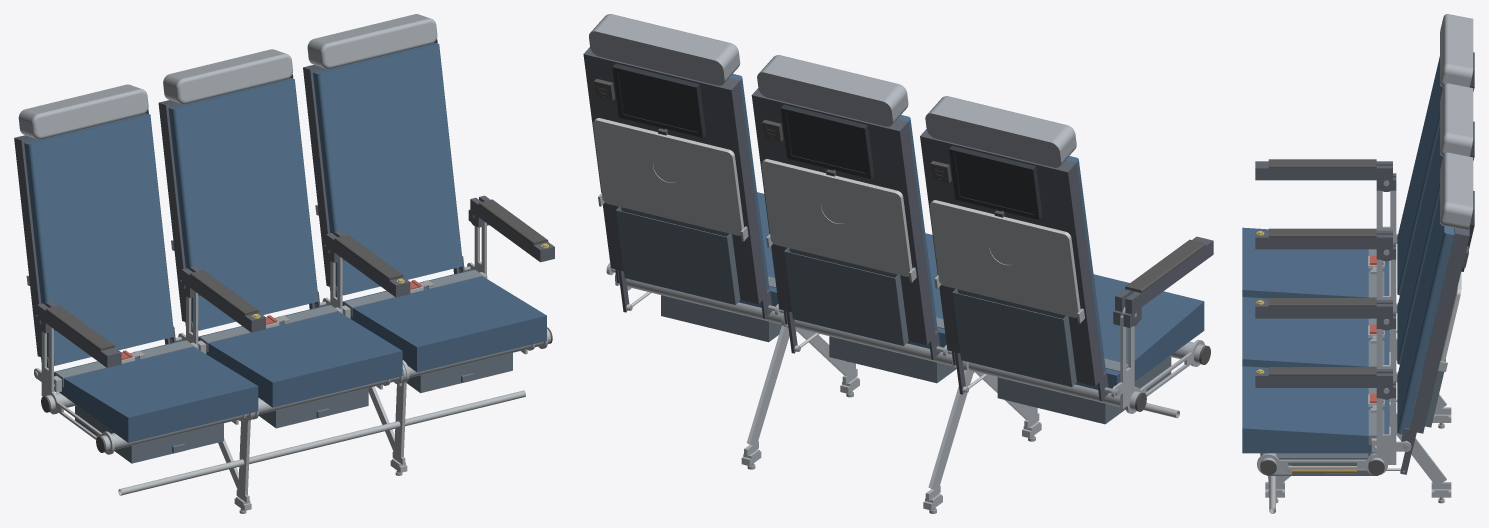
The model's file is esp2026_seat_set.glb.
The picture shows the model from 3 angles, left to right: view 1: azimuth 30°, elevation 25°; view 2: azimuth 150°, elevation 25°; view 3: azimuth 270°, elevation 25°; orthographic projection. The views are drawn at different scales.
Visible parts, largest first — view 1: seat 3 back cushion cover, seat 2 back cushion cover, seat 1 back cushion cover, seat 1 cushion cover, seat 2 cushion cover, seat 3 cushion cover, seat 2 head rest, seat 1 head rest, seat 3 head rest, baggage bar, seat 1 life vest pouch, seat 3 back shell (+19 smaller); view 2: seat 2 tray table, seat 1 tray table, seat 3 tray table, seat 1 back shell, seat 2 back shell, seat 3 back shell, seat 3 literature pocket, seat 1 literature pocket, seat 2 literature pocket, seat 2 head rest, seat 1 head rest, seat 3 head rest (+18 smaller); view 3: seat 3 cushion cover, seat 1 cushion cover, seat 2 cushion cover, seat 3 back cushion cover, seat 3 back shell, seat 1 back cushion cover, seat 2 back cushion cover, seat 3 head rest, seat 2 head rest, seat 1 head rest, spreader 4, armrest 1 (+19 smaller).
Boxes of the visible parts, <box> form: seat 3 back cushion cover: <box>313,42,462,295</box>; seat 2 back cushion cover: <box>168,78,318,330</box>; seat 1 back cushion cover: <box>24,113,174,365</box>; seat 1 cushion cover: <box>54,340,258,442</box>; seat 2 cushion cover: <box>198,305,402,407</box>; seat 3 cushion cover: <box>342,270,546,372</box>; seat 2 head rest: <box>163,49,292,104</box>; seat 1 head rest: <box>18,84,148,139</box>; seat 3 head rest: <box>307,14,437,69</box>; baggage bar: <box>118,390,525,495</box>; seat 1 life vest pouch: <box>75,405,223,463</box>; seat 3 back shell: <box>303,39,464,297</box>; seat 2 tray table: <box>761,159,912,276</box>; seat 1 tray table: <box>929,200,1080,317</box>; seat 3 tray table: <box>593,118,743,235</box>; seat 1 back shell: <box>920,129,1108,400</box>; seat 2 back shell: <box>751,88,940,359</box>; seat 3 back shell: <box>583,47,772,318</box>; seat 3 literature pocket: <box>616,207,740,304</box>; seat 1 literature pocket: <box>952,289,1076,386</box>; seat 2 literature pocket: <box>784,248,908,345</box>; seat 2 head rest: <box>757,55,908,126</box>; seat 1 head rest: <box>925,96,1076,167</box>; seat 3 head rest: <box>589,14,740,85</box>; seat 3 cushion cover: <box>1242,366,1389,453</box>; seat 1 cushion cover: <box>1242,227,1389,298</box>; seat 2 cushion cover: <box>1242,297,1389,367</box>; seat 3 back cushion cover: <box>1397,195,1454,434</box>; seat 3 back shell: <box>1400,227,1469,474</box>; seat 1 back cushion cover: <box>1397,56,1442,295</box>; seat 2 back cushion cover: <box>1397,126,1442,364</box>; seat 3 head rest: <box>1440,152,1473,230</box>; seat 2 head rest: <box>1440,83,1473,156</box>; seat 1 head rest: <box>1440,14,1473,87</box>; spreader 4: <box>1257,398,1411,474</box>; armrest 1: <box>1255,161,1396,191</box>.
Bounding box in the file's own units: 1554 × 1201 × 709.
